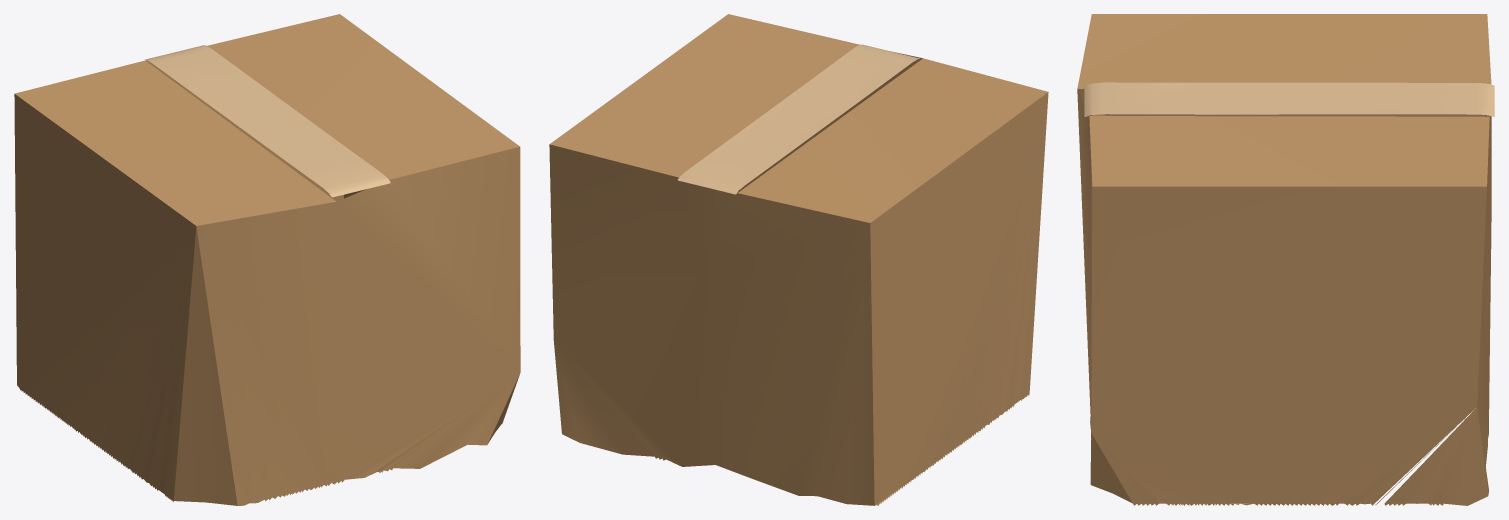
The model's file is boxes.glb.
The picture shows the model from 3 angles, left to right: view 1: azimuth 30°, elevation 25°; view 2: azimuth 150°, elevation 25°; view 3: azimuth 270°, elevation 25°; orthographic projection. The views are drawn at different scales.
Parts seen in each view (by area): view 1: boxes_cardboard, boxes_tape; view 2: boxes_cardboard, boxes_tape; view 3: boxes_cardboard, boxes_tape.
Part boxes in pixels (x1=…): boxes_cardboard: x1=14, y1=14, x2=520, y2=505; boxes_tape: x1=145, y1=45, x2=390, y2=197; boxes_cardboard: x1=549, y1=14, x2=1048, y2=505; boxes_tape: x1=677, y1=44, x2=919, y2=194; boxes_cardboard: x1=1077, y1=14, x2=1491, y2=505; boxes_tape: x1=1084, y1=82, x2=1494, y2=116.
Size of the model in its own units: 0.6992 by 0.6124 by 0.7079.
